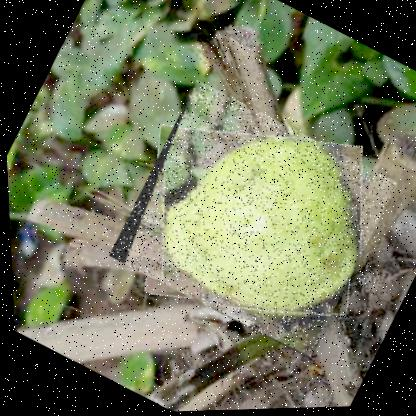guava: (99, 76, 402, 366)
